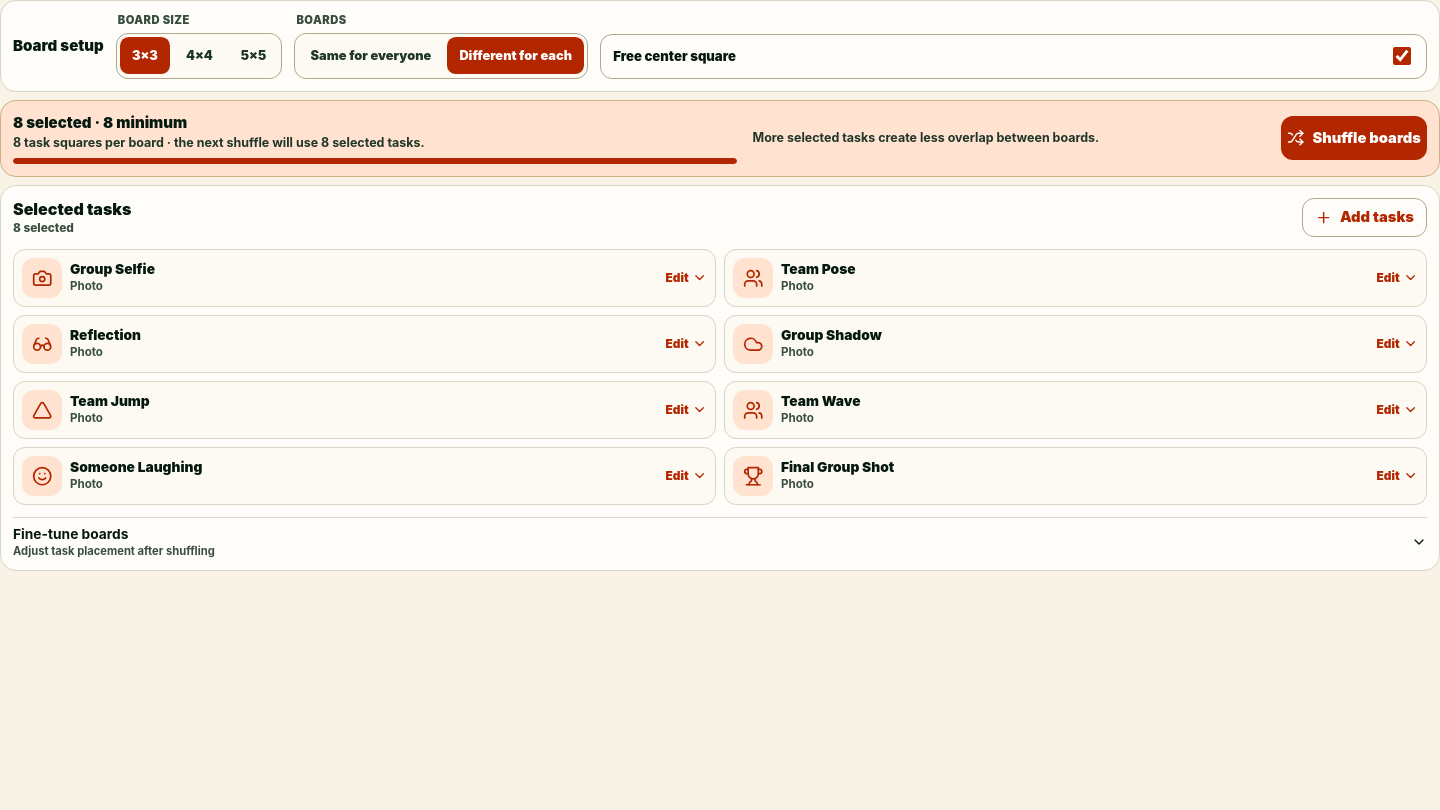
Test case: catalog board editor › prioritizes selected tasks when editing a template
Check: the text "Selected tasks" is shown, box [13,199,131,219]
Check: the text "8 selected" is shown, box [13,221,74,235]
Click the button "Add tasks".
click(1364, 217)  # box [1302,198,1427,237]
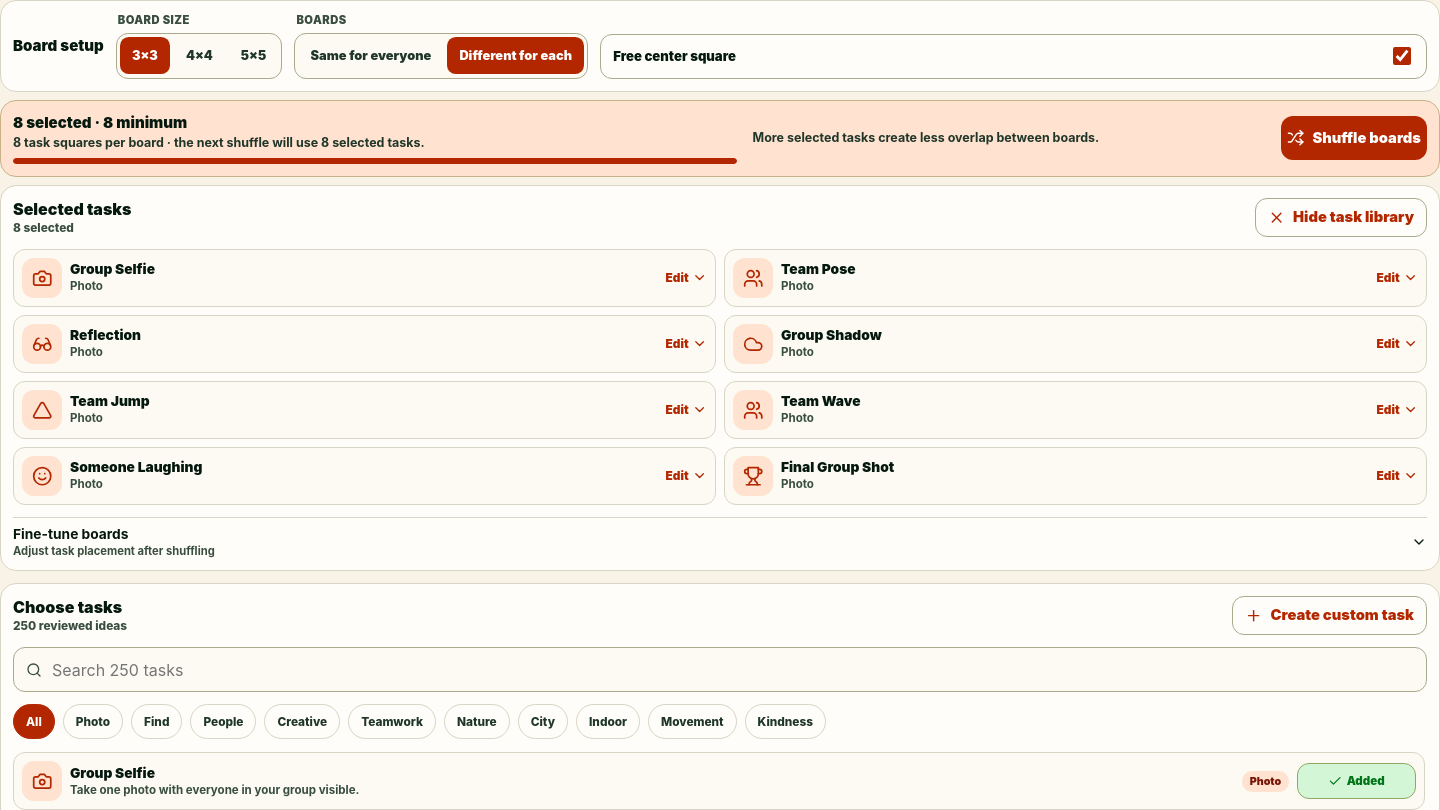
Check: the search field named "Search task catalog" is shown, box [50,659,1414,681]
Check: the button "Hide task library" is shown, box [1255,198,1427,237]
